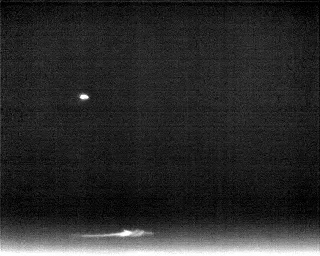AIRPLANE: (78, 91, 91, 103)
